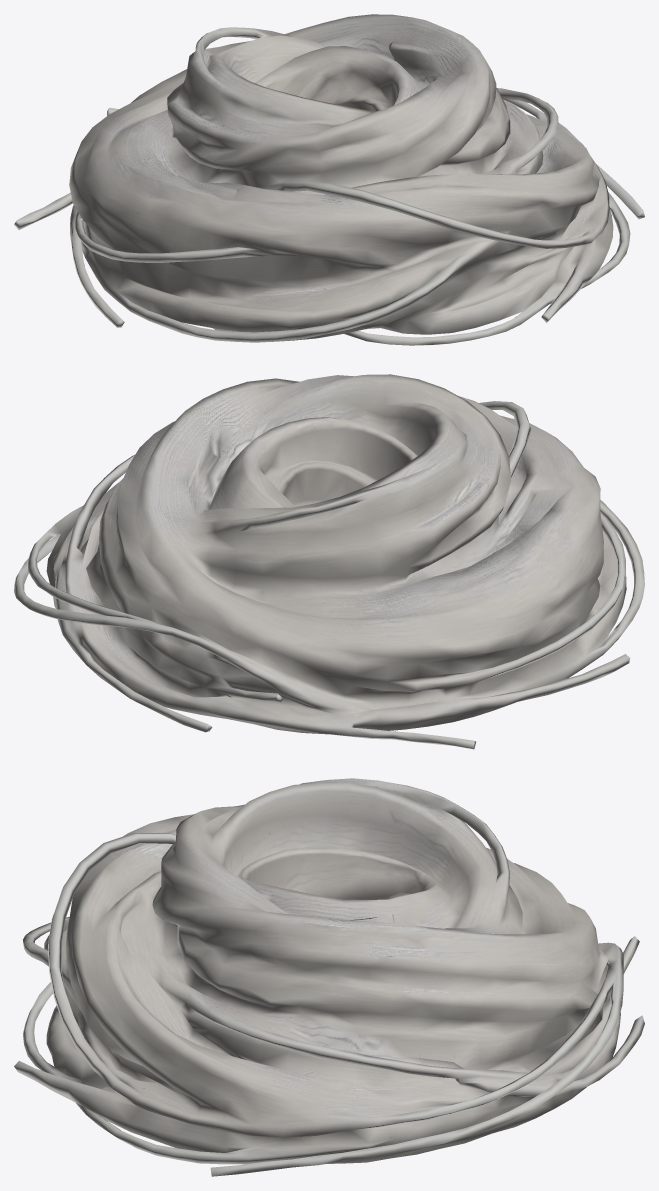
Rendered from optimized_glb.glb.
3 renders of one model, top to bottom at view 1: azimuth 30°, elevation 25°; view 2: azimuth 150°, elevation 25°; view 3: azimuth 270°, elevation 25°, orthographic. The views are drawn at different scales.
Visible parts, largest first — view 1: Glass Noodles; view 2: Glass Noodles; view 3: Glass Noodles.
Part boxes in pixels (x1=…): Glass Noodles: x1=14, y1=14, x2=644, y2=345; Glass Noodles: x1=14, y1=374, x2=644, y2=749; Glass Noodles: x1=14, y1=778, x2=644, y2=1176.
Size of the model in its own units: 0.998 by 0.3613 by 0.9785.
1 material, 1 textured.
